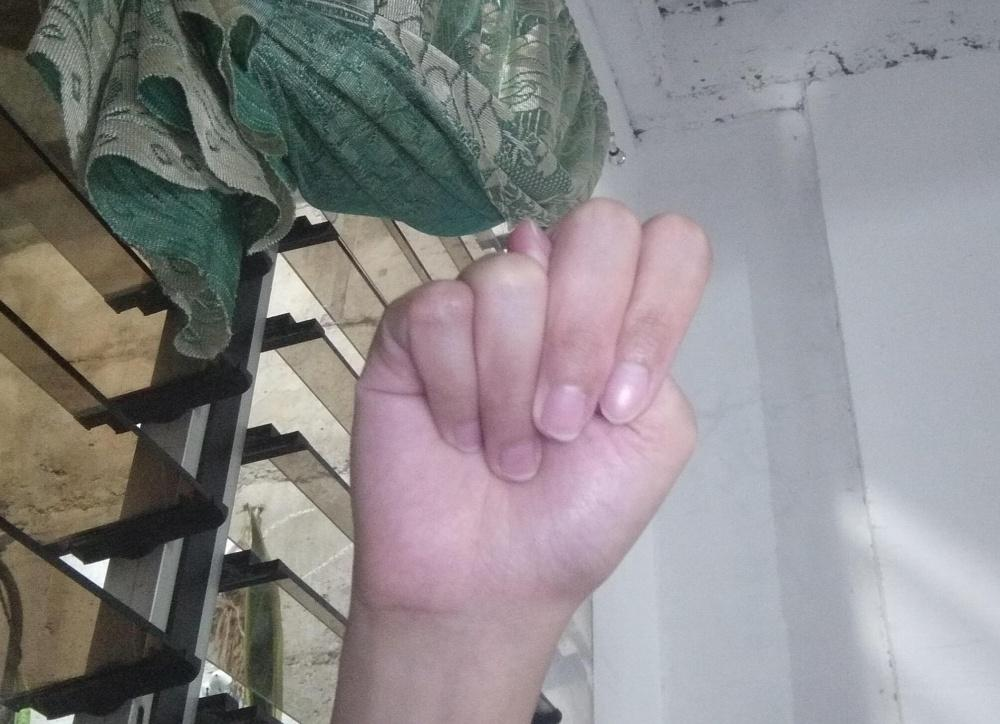n: (350, 196, 715, 612)
